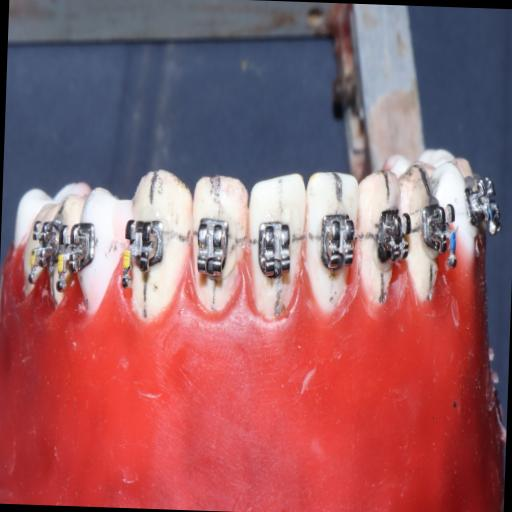incorrect_brace: (255, 210, 295, 285)
